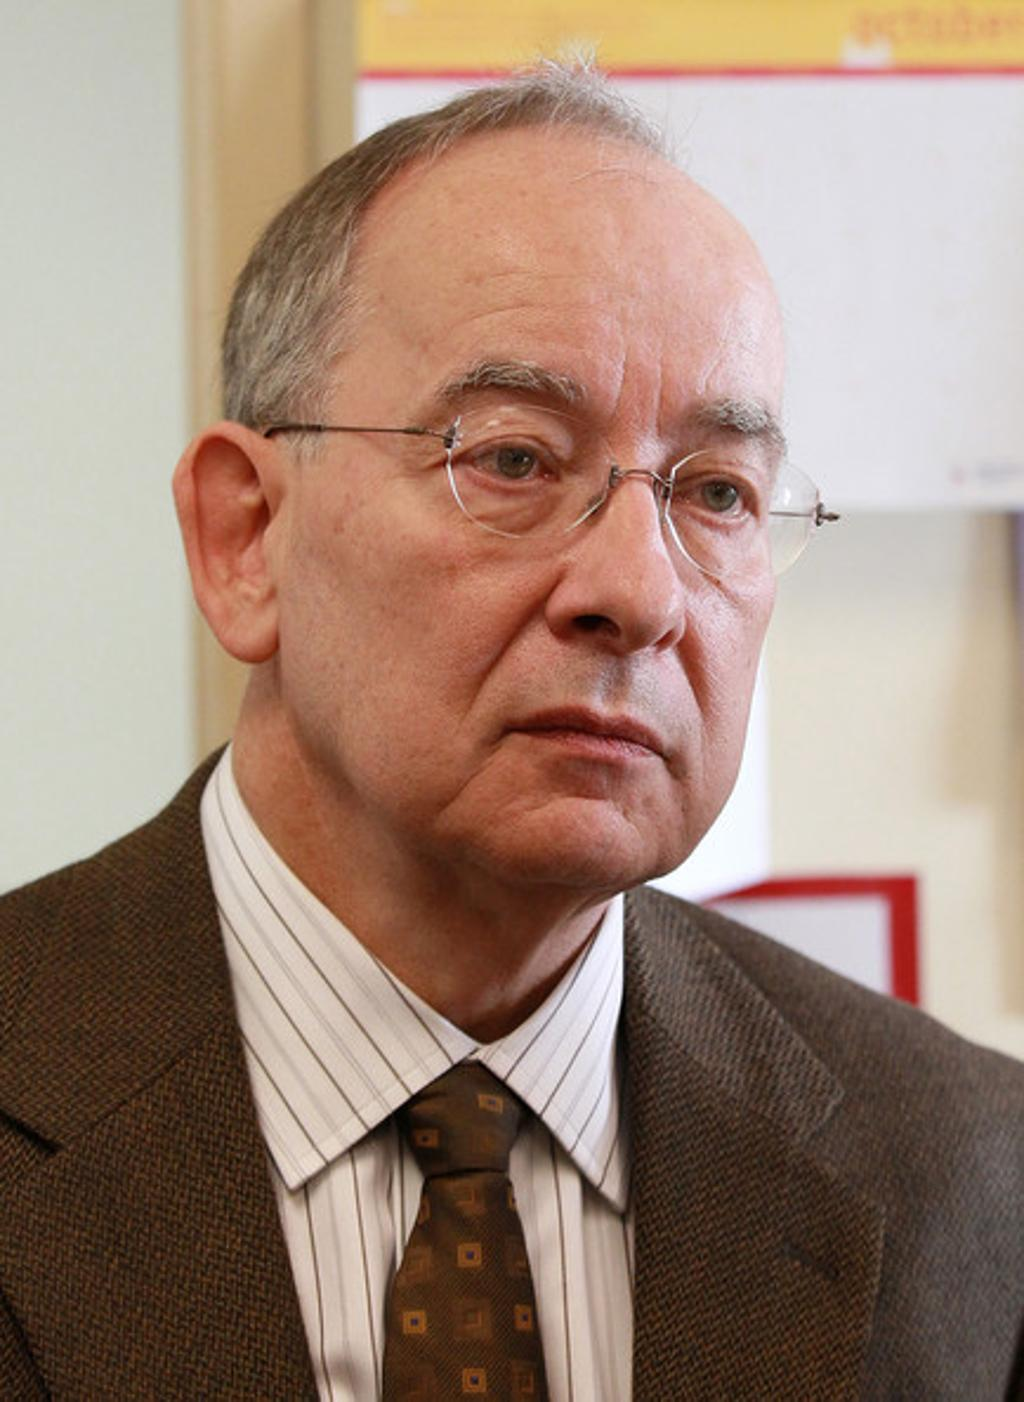face: (290, 145, 783, 882)
